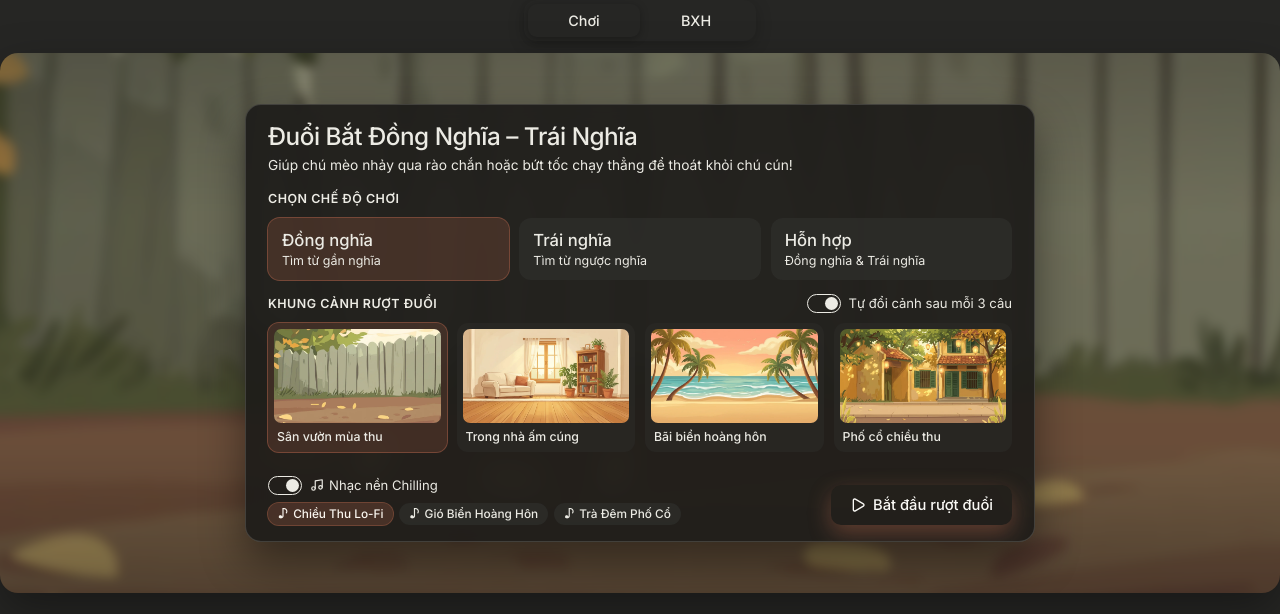
Scenario: SynonymAntonymChase › renders Chơi/BXH tabs, pre-game mode selector, all 4 scenes, all 3 chill tracks, and BXH empty state
Expected: the tab with test id "chase-tab-play" is shown, [528,4,640,37]
Expected: the tab with test id "chase-tab-leaderboard" is shown, [640,4,752,37]
What coordinates should you click on to do the following:
click the radio button with test id "chase-track-ocean-breeze"
I would click on:
 (474, 514)
Its box is [400,503,548,525].
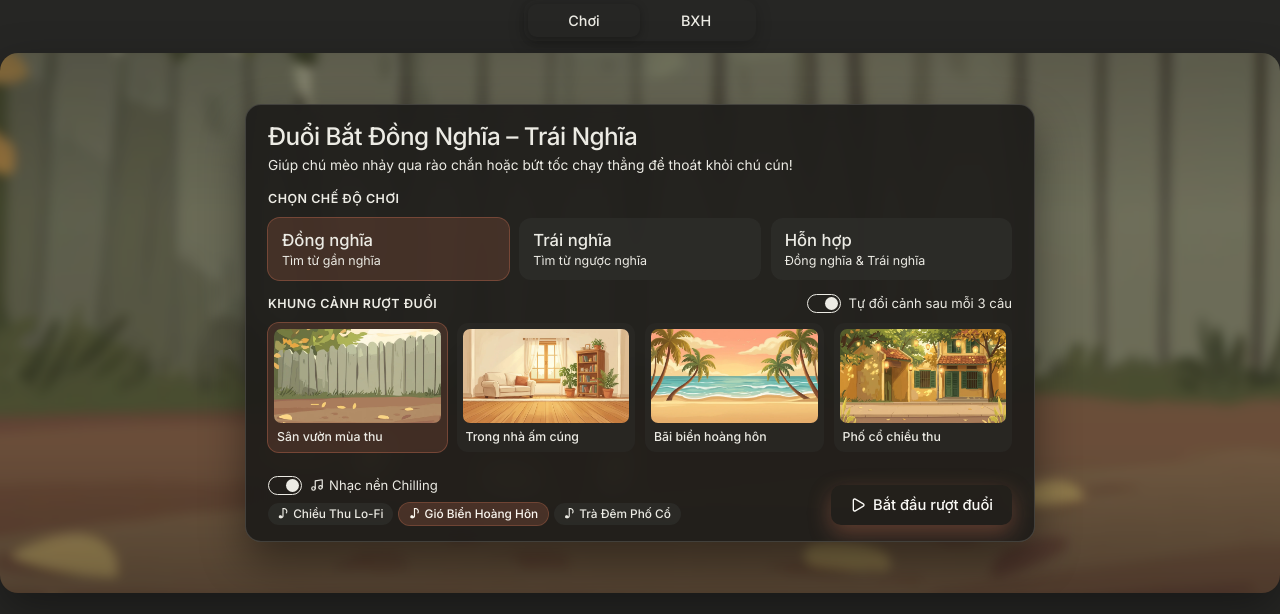
Expected: the radio button with test id "chase-track-ocean-breeze" is checked, [400,503,548,525]
What coordinates should you click on to do the following:
click the tab with test id "chase-tab-leaderboard"
I would click on:
 (696, 20)
Its box is [640,4,752,37].
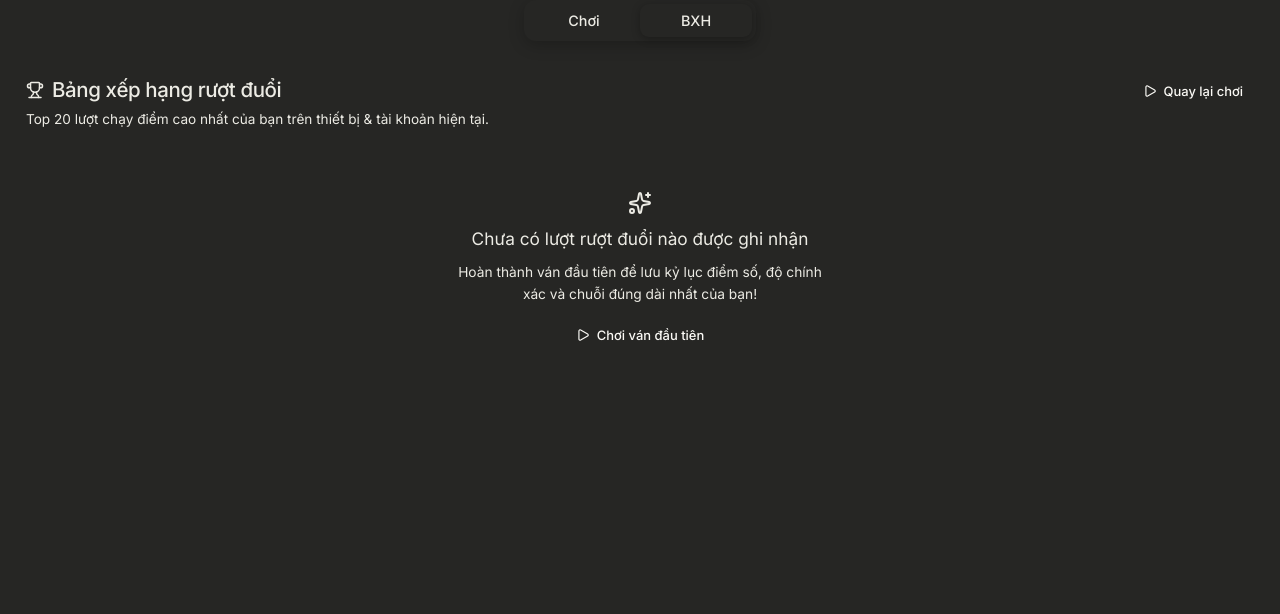
Expected: the element with test id "chase-leaderboard" is shown, [0,53,1279,413]
Expected: the element with test id "chase-bxh-empty" is shown, [458,191,822,349]
